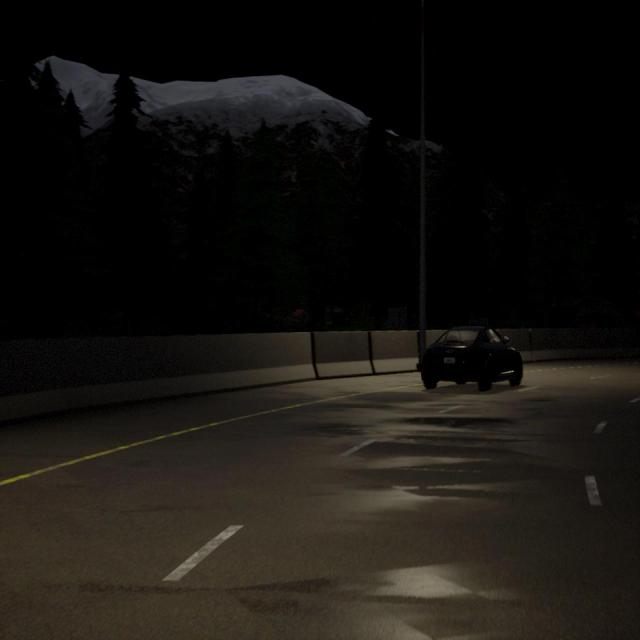Vehicle: (416, 324, 524, 391)
